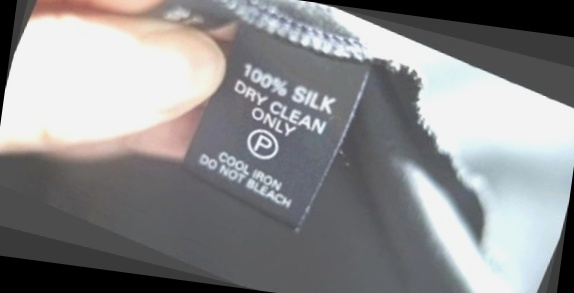dry_clean_any_solvent_except_trichloroethylene: (241, 122, 288, 166)
